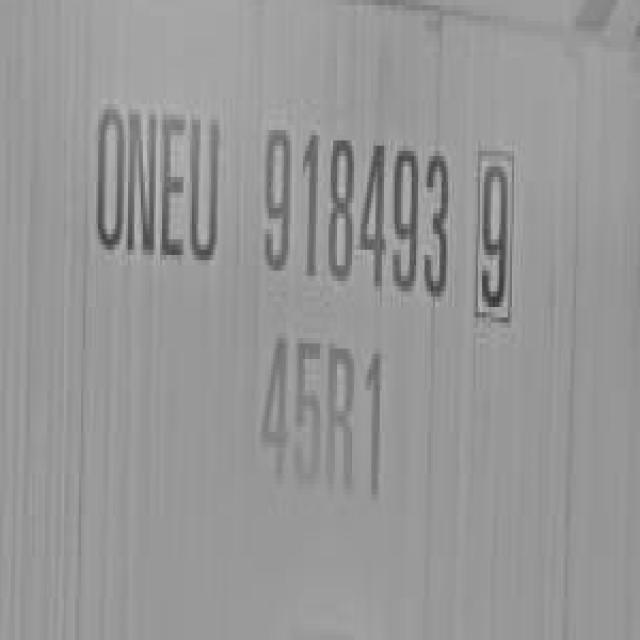dv: (472, 138, 521, 338)
owner: (86, 79, 222, 283)
serial: (257, 103, 452, 305)
size: (252, 319, 392, 512)
